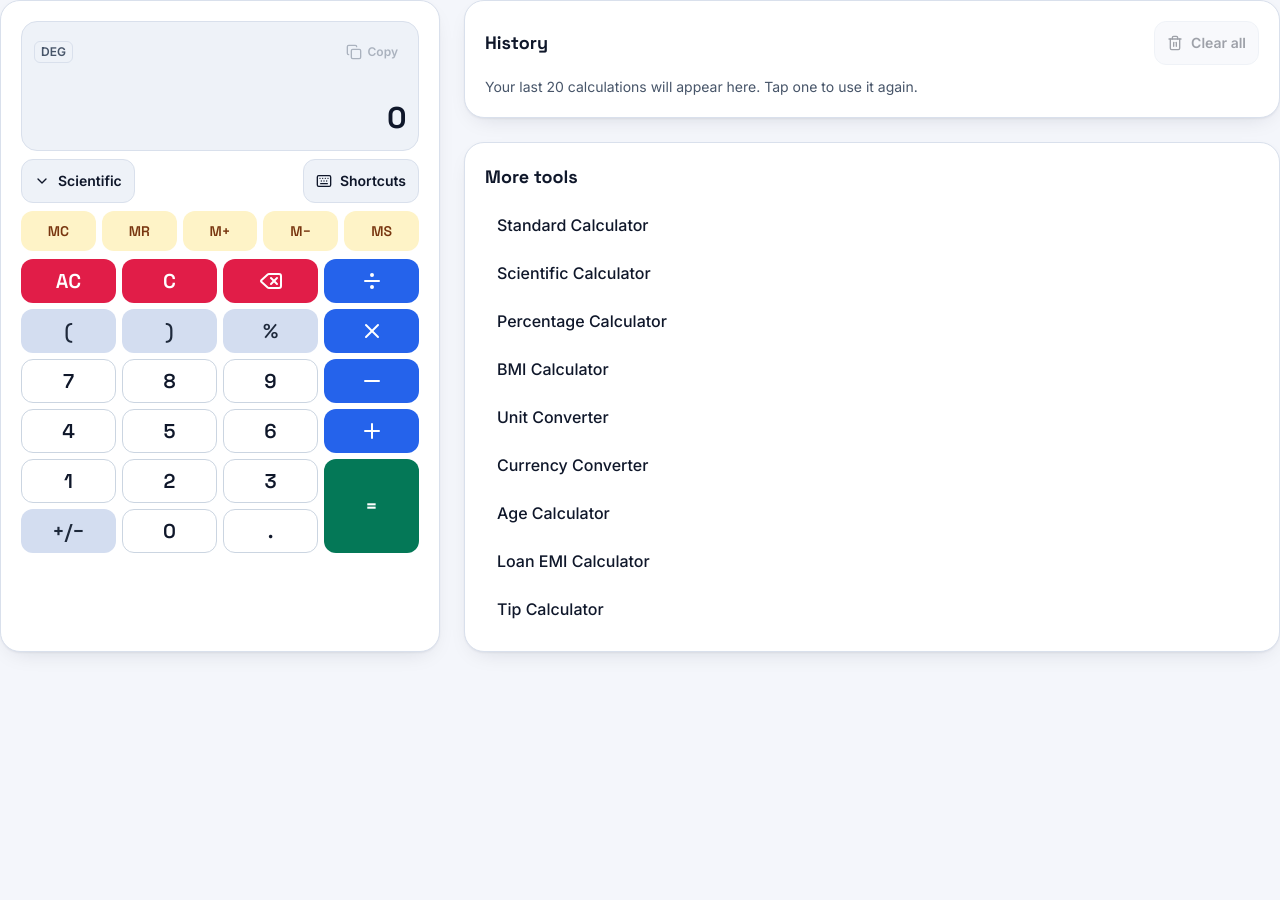
it: Calculator component › saves history to localStorage and lets you reuse an entry
Click the button "9": coordinates (270, 381) [223, 359, 318, 403]
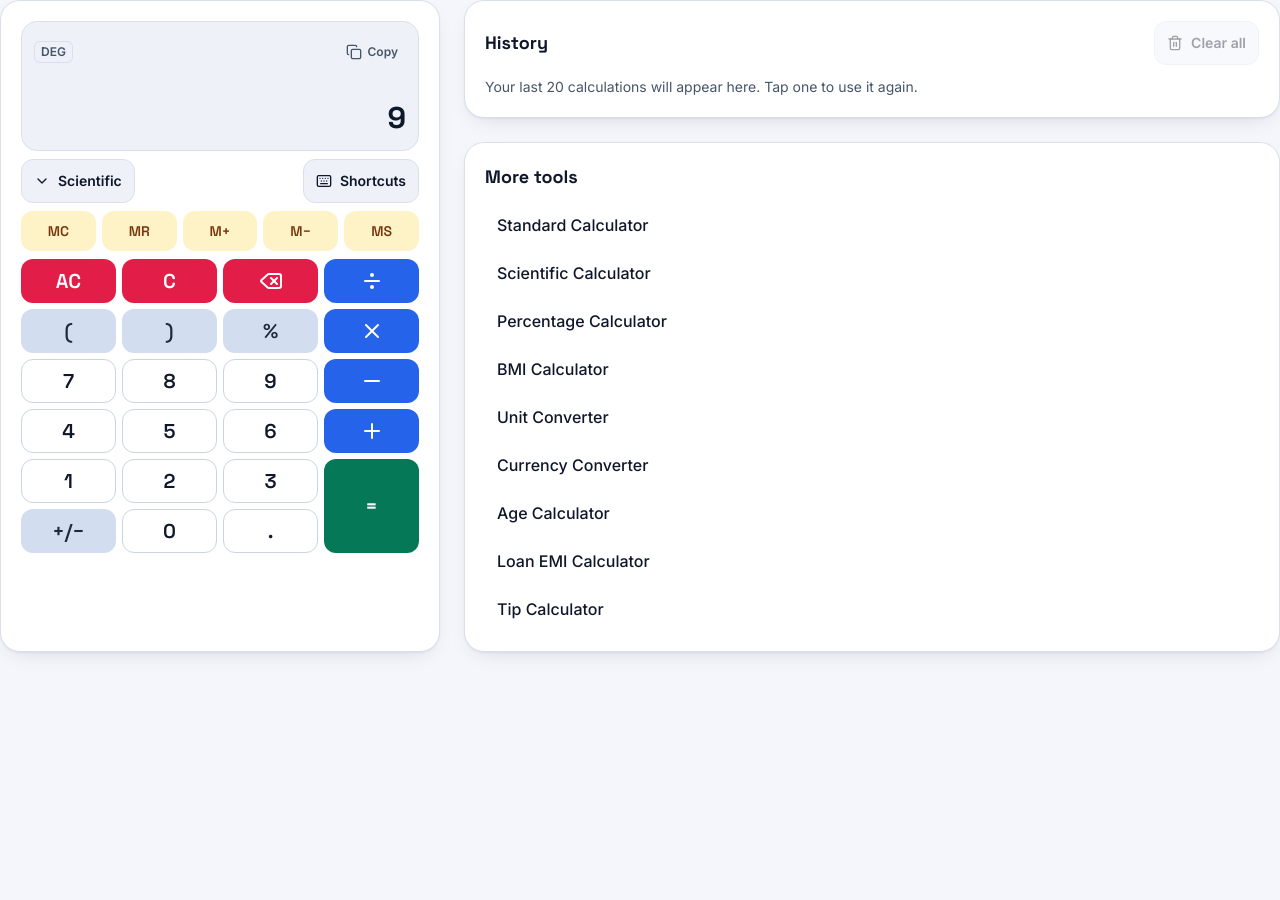
Click the button named "Multiply": coordinates (372, 331) [324, 309, 419, 353]
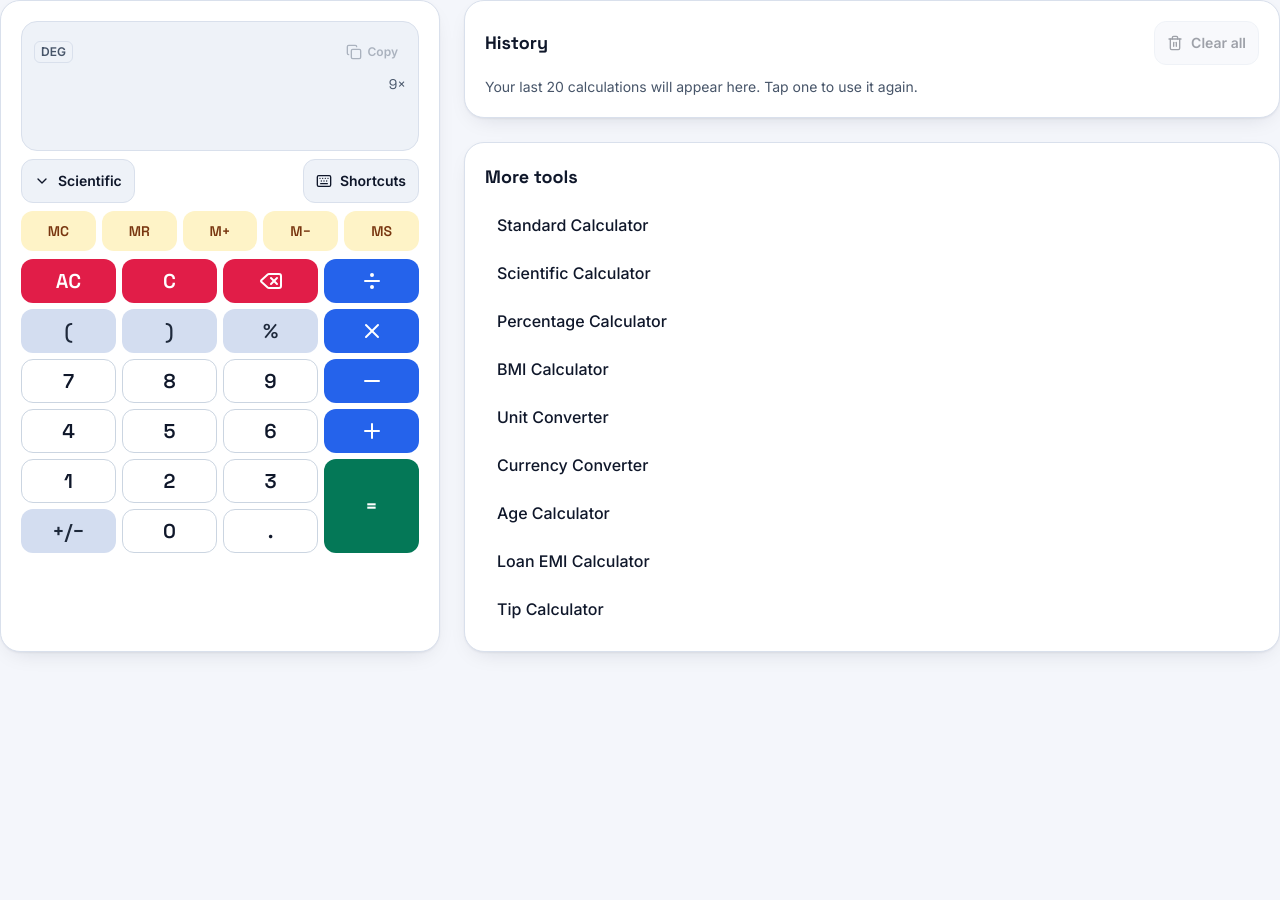
Click the button "9": coordinates (270, 381) [223, 359, 318, 403]
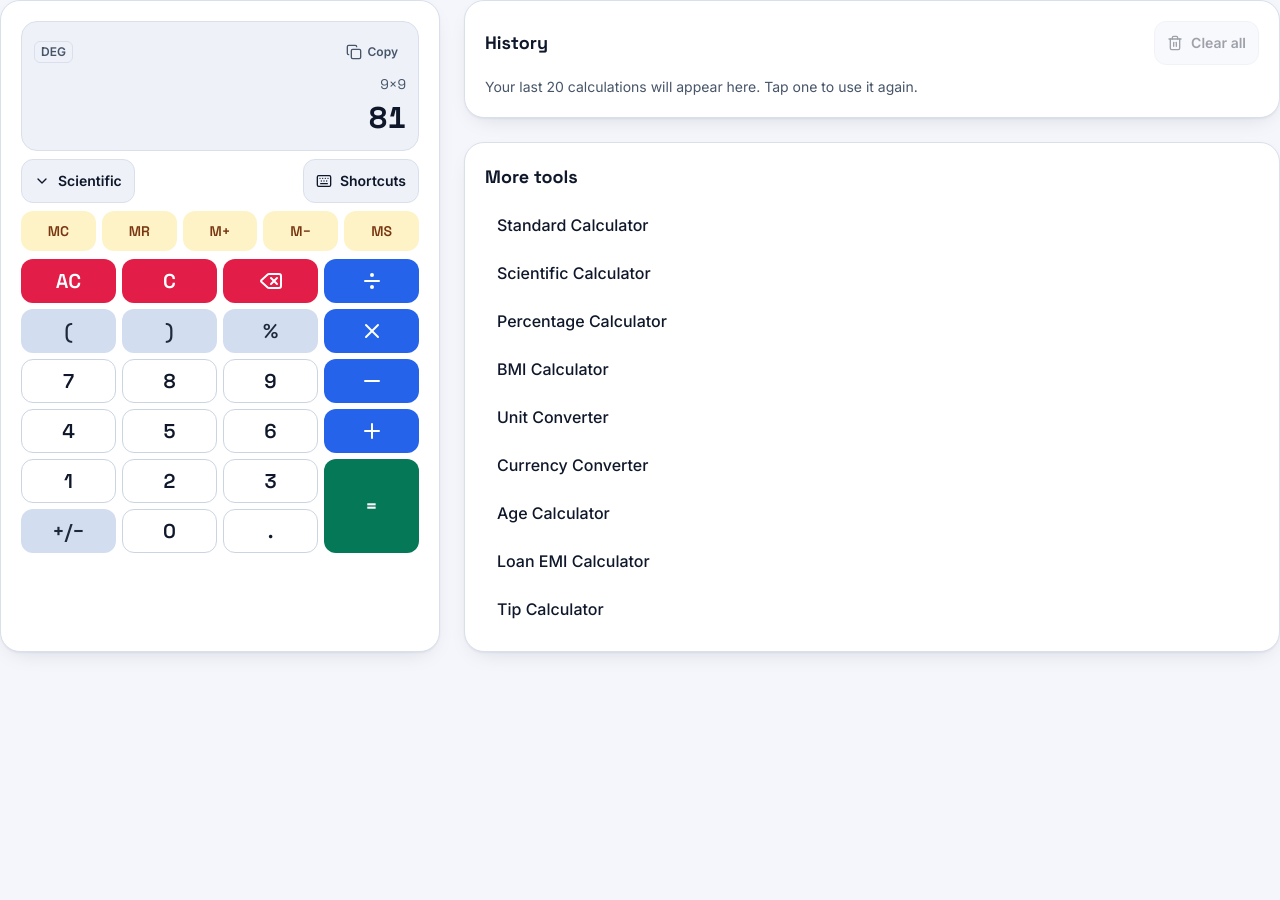
Click the button named "Equals": coordinates (372, 506) [324, 459, 419, 553]
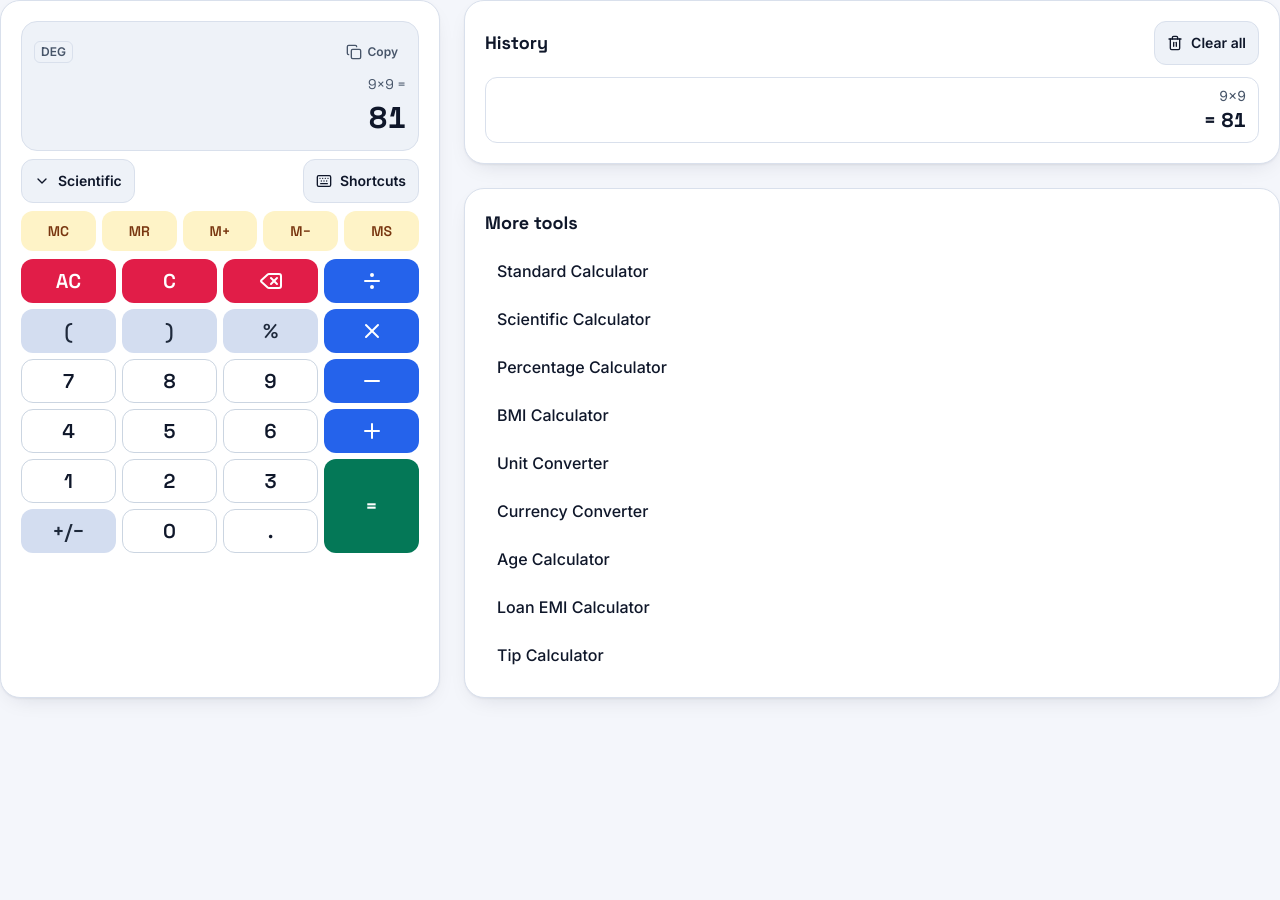
Click the button named "Clear": coordinates (170, 281) [122, 259, 217, 303]
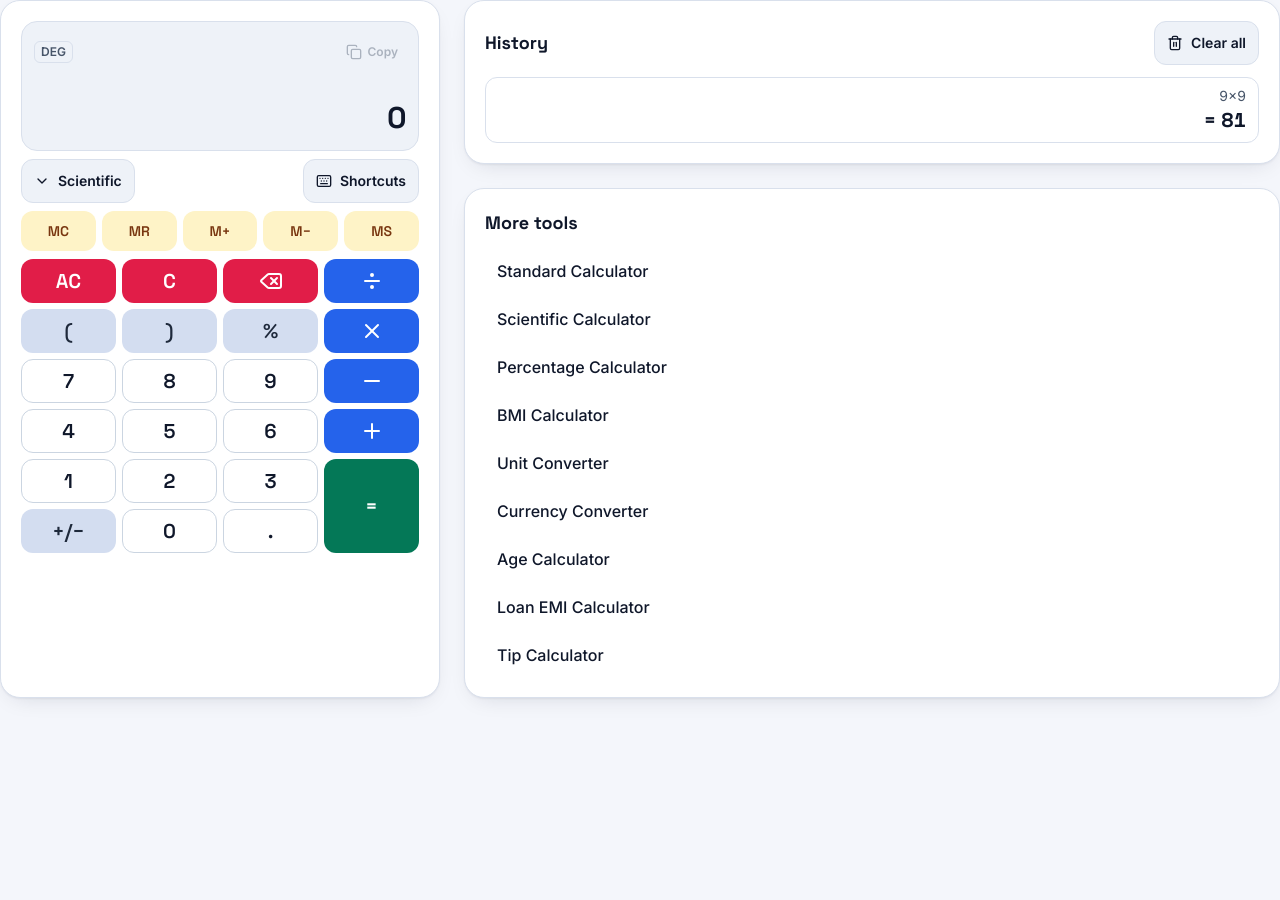
Click the button named "Use 9×9 equals 81": coordinates (1233, 96) [485, 77, 1259, 143]
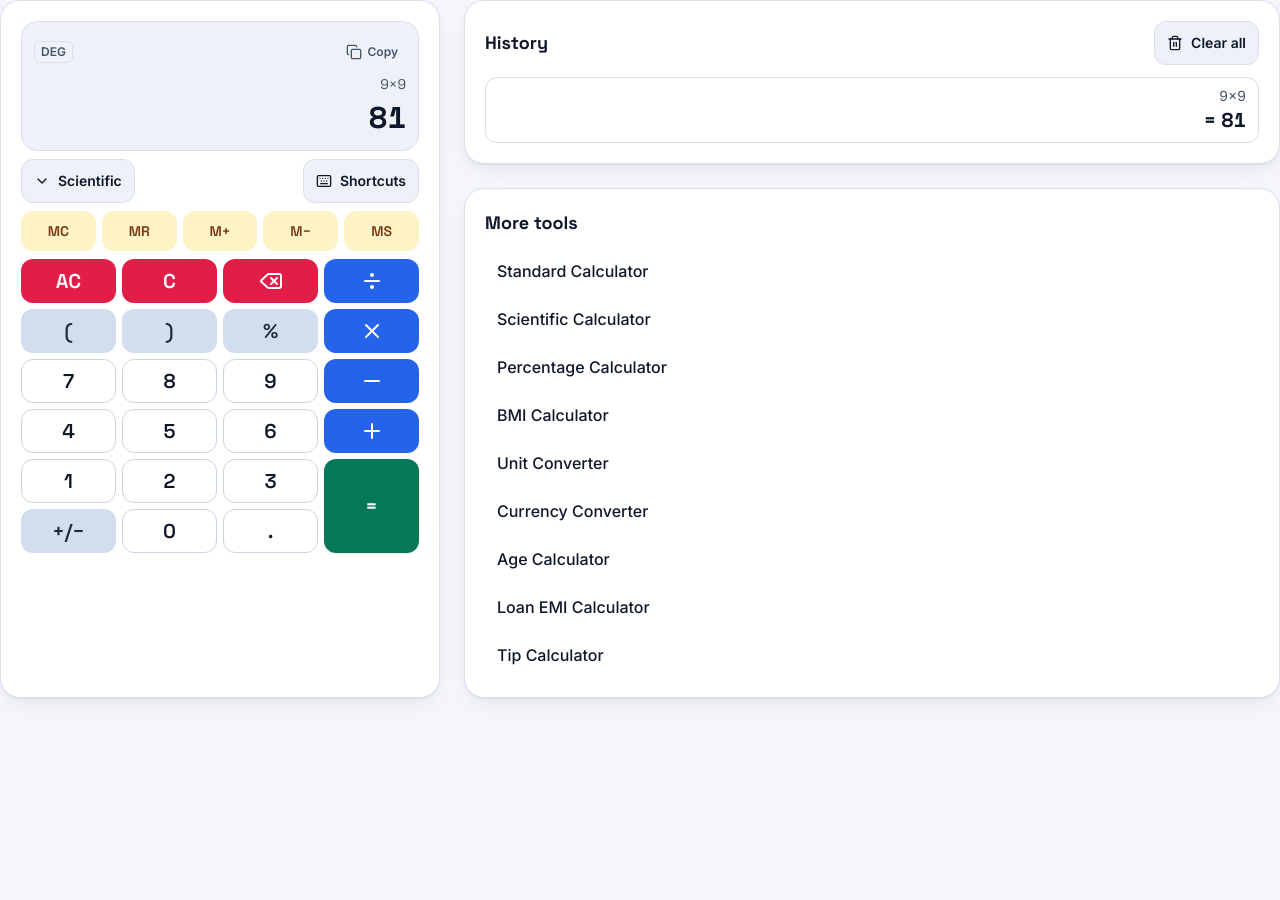
Check: the text "81" is shown, box [369, 98, 406, 137]
